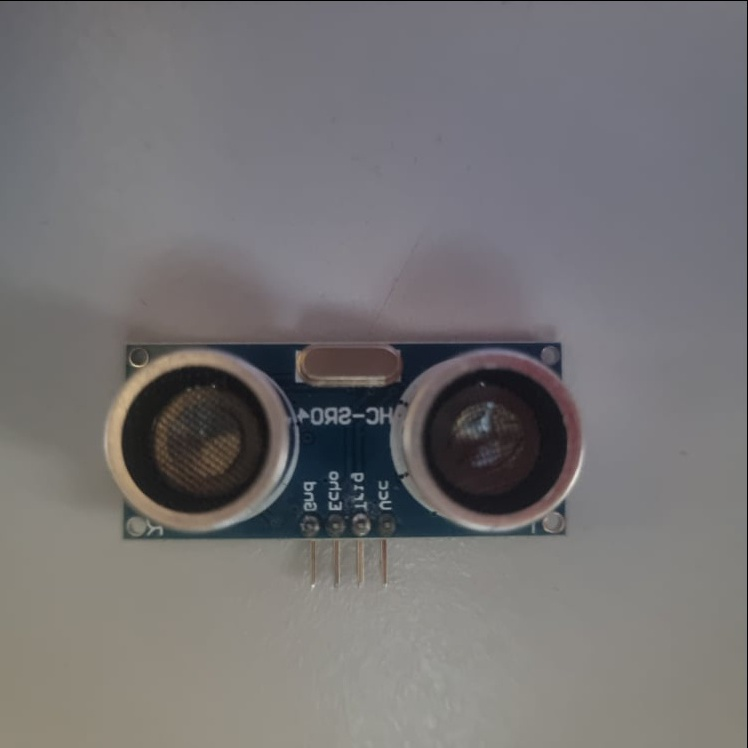SENSOR: (103, 335, 591, 590)
